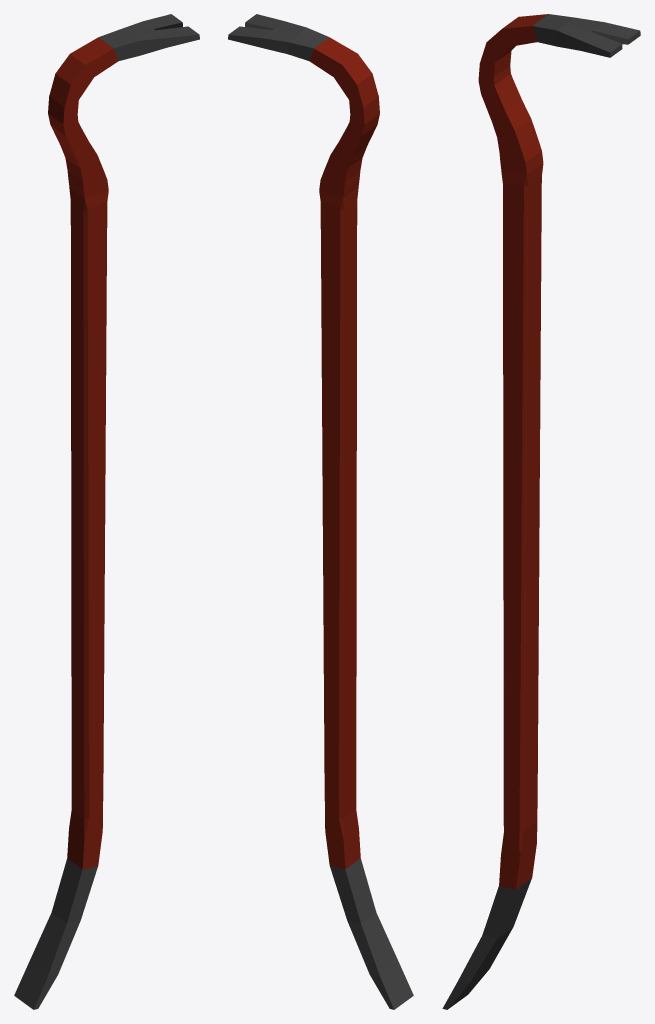
Rendered from crowbar.fbx.
3 views of the same model, side by side, from view 1: azimuth 30°, elevation 25°; view 2: azimuth 150°, elevation 25°; view 3: azimuth 330°, elevation 25° (orthographic). The views are drawn at different scales.
Parts seen in each view (by area): view 1: Crowbar; view 2: Crowbar; view 3: Crowbar.
Part boxes in pixels (box(x1,y1,x2,y2)): Crowbar: box(14, 14, 199, 1009); Crowbar: box(228, 14, 413, 1009); Crowbar: box(442, 14, 640, 1009).
Size of the model in its own units: 32.62 by 182 by 9.9.
1 material, 1 textured.
